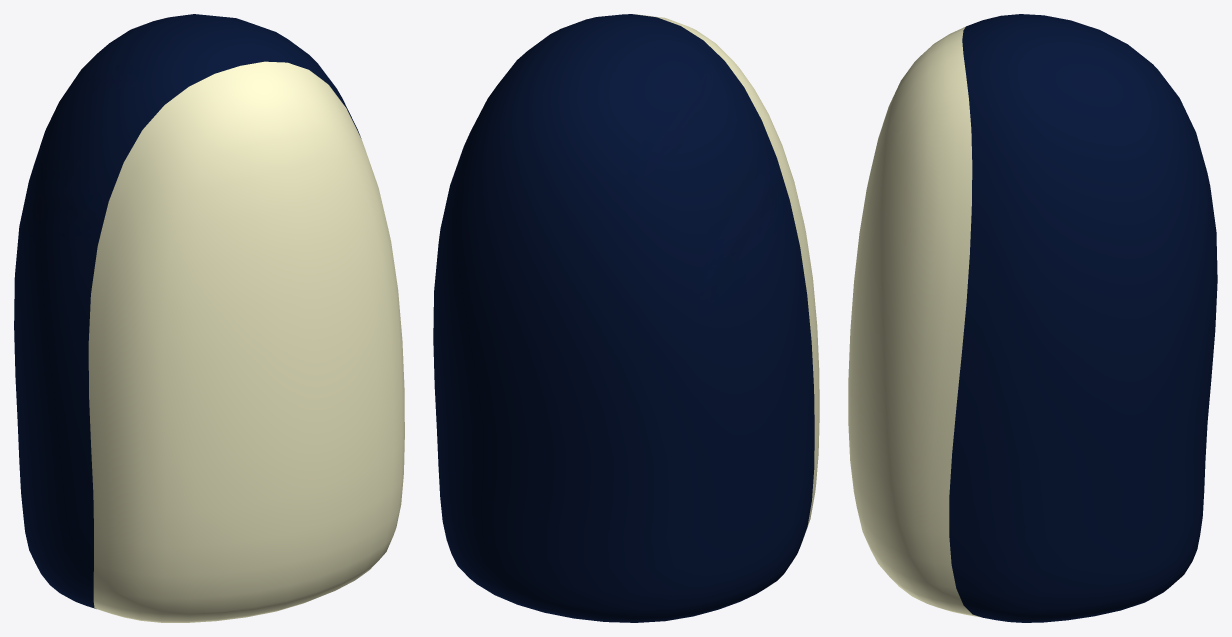
The model's file is CuerpoGunter_obj.obj.
3 views of the same model, side by side, from view 1: azimuth 30°, elevation 25°; view 2: azimuth 150°, elevation 25°; view 3: azimuth 270°, elevation 25° (orthographic).
Visible parts, largest first — view 1: Cuerpo; view 2: Cuerpo; view 3: Cuerpo.
Part boxes in pixels (x1,y1,x2,y2): Cuerpo: (14,14,404,622); Cuerpo: (433,14,819,622); Cuerpo: (848,14,1217,622).
Bounding box in the file's own units: 0.8548 × 1.33 × 0.8334.
